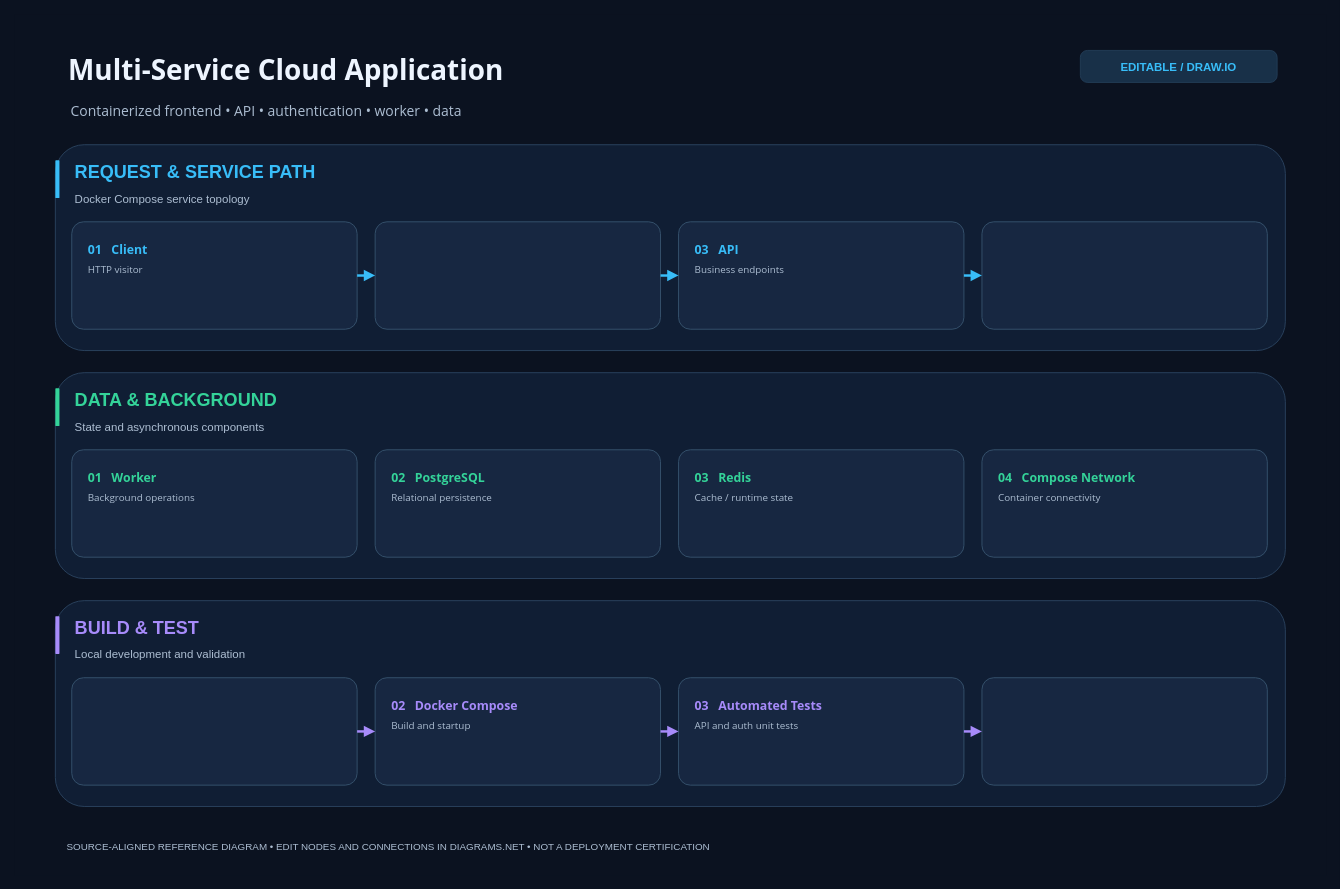
This 1340x889 diagram has some shape labels left out. The shapes that lost their labels are listed below. From the top down, each one's centre as x and y in pixels, then its label:
At point 517,275: "02 Frontend User-facing service".
At point 1124,275: "04 Auth Service Authentication".
At point 214,731: "01 Service Source Per-service code".
At point 1124,731: "04 Smoke Tests Runtime verification".
